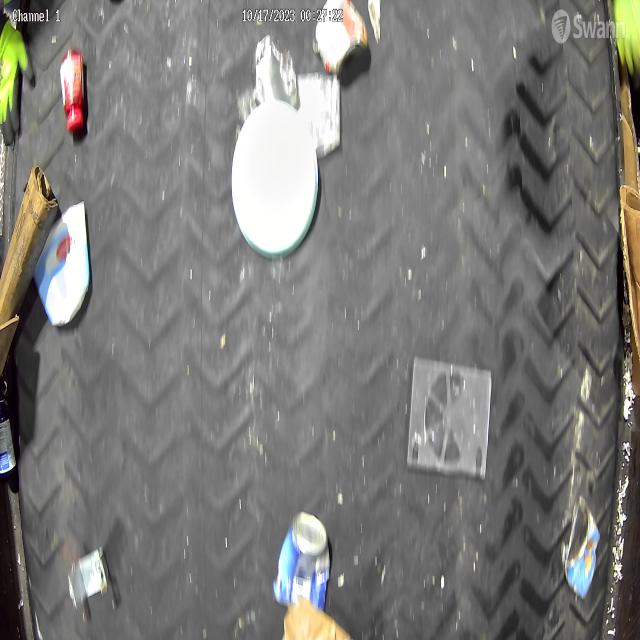can: (274, 510, 330, 610), (314, 4, 372, 78), (299, 70, 341, 162), (564, 496, 600, 600)
